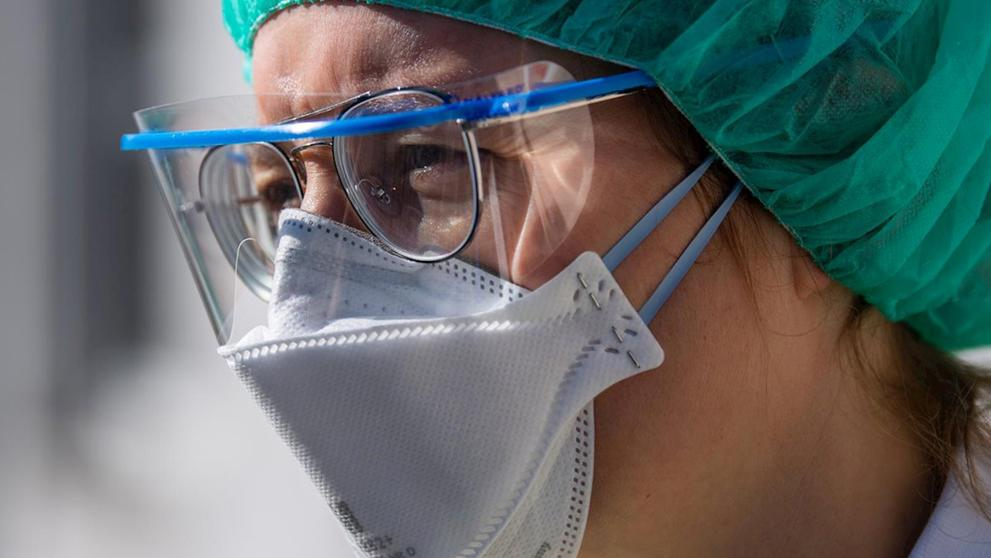with_mask: (170, 1, 991, 558)
